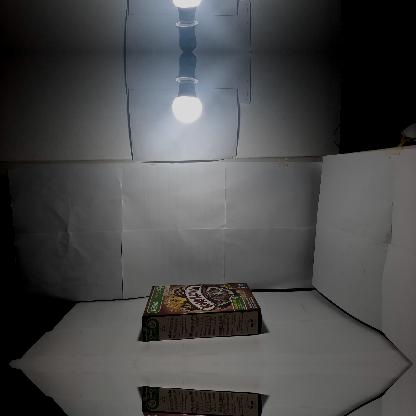Koko-Krunch: (141, 282, 261, 342), (141, 386, 262, 415)
